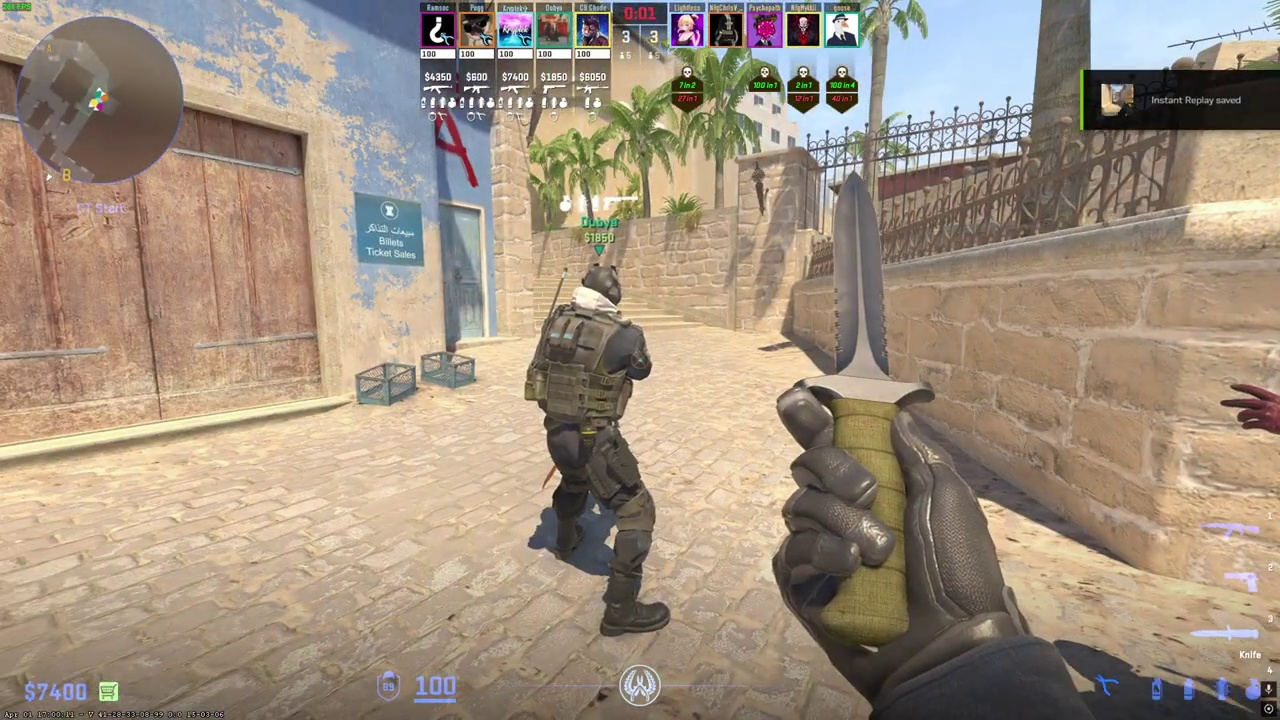CT: (531, 264, 669, 634)
